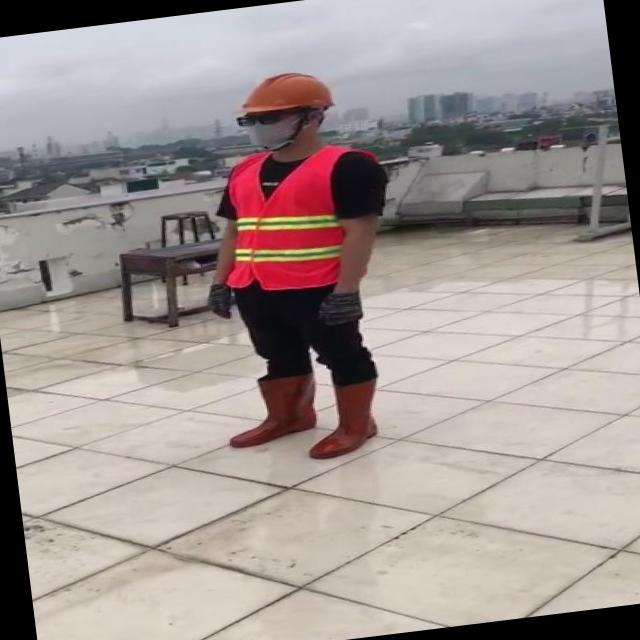boots: (218, 367, 324, 452), (301, 371, 384, 464)
gloves: (296, 270, 372, 342), (184, 260, 249, 340)
helmet: (236, 64, 339, 118)
vest: (209, 136, 399, 299)
